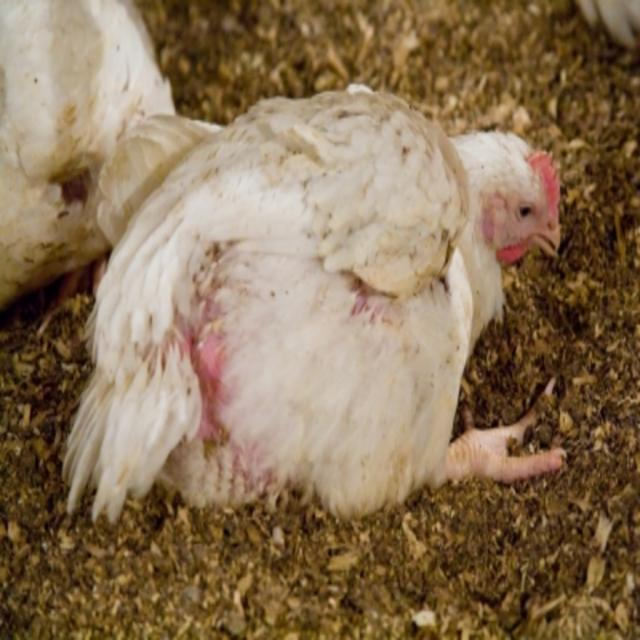Chicken: (59, 60, 579, 546)
